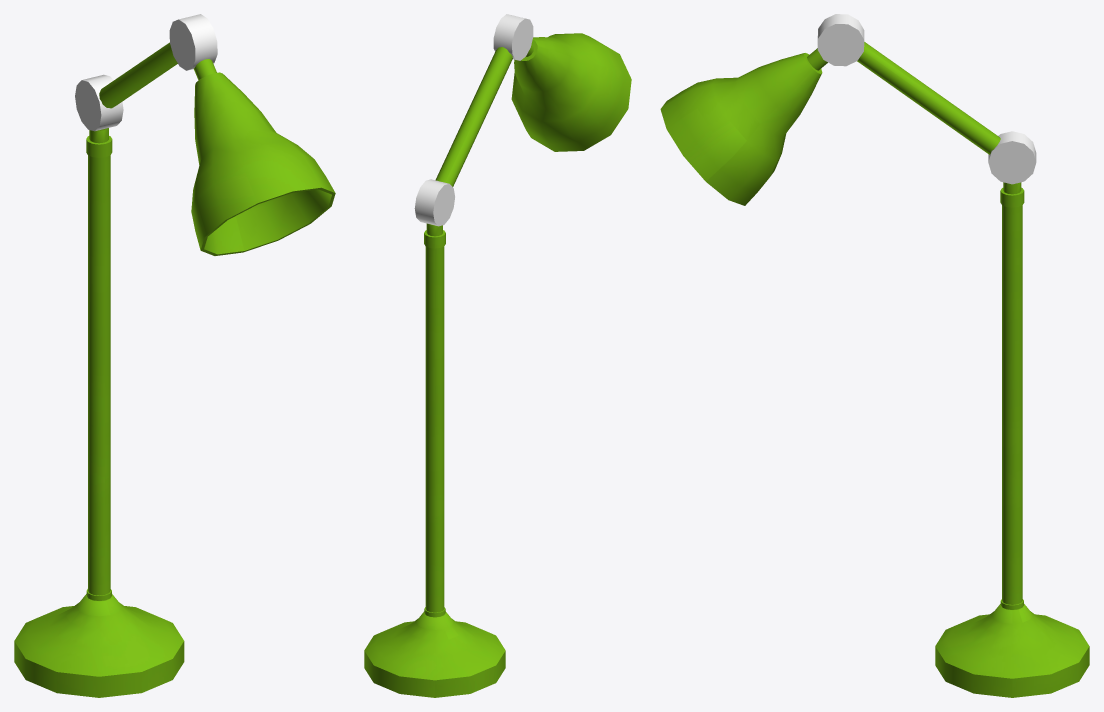
Rendered from green_desk_lamp.glb.
3 views of the same model, side by side, from view 1: azimuth 30°, elevation 25°; view 2: azimuth 150°, elevation 25°; view 3: azimuth 270°, elevation 25° (orthographic). The views are drawn at different scales.
Parts seen in each view (by area): view 1: green_desk_lamp; view 2: green_desk_lamp; view 3: green_desk_lamp.
Part boxes in pixels (left/top/right/bottom): green_desk_lamp: left=14, top=14, right=335, bottom=697; green_desk_lamp: left=364, top=14, right=631, bottom=697; green_desk_lamp: left=660, top=14, right=1089, bottom=697.
Bounding box in the file's own units: 0.1122 × 0.5188 × 0.312.
Materials: 2 (2 with a texture image).
